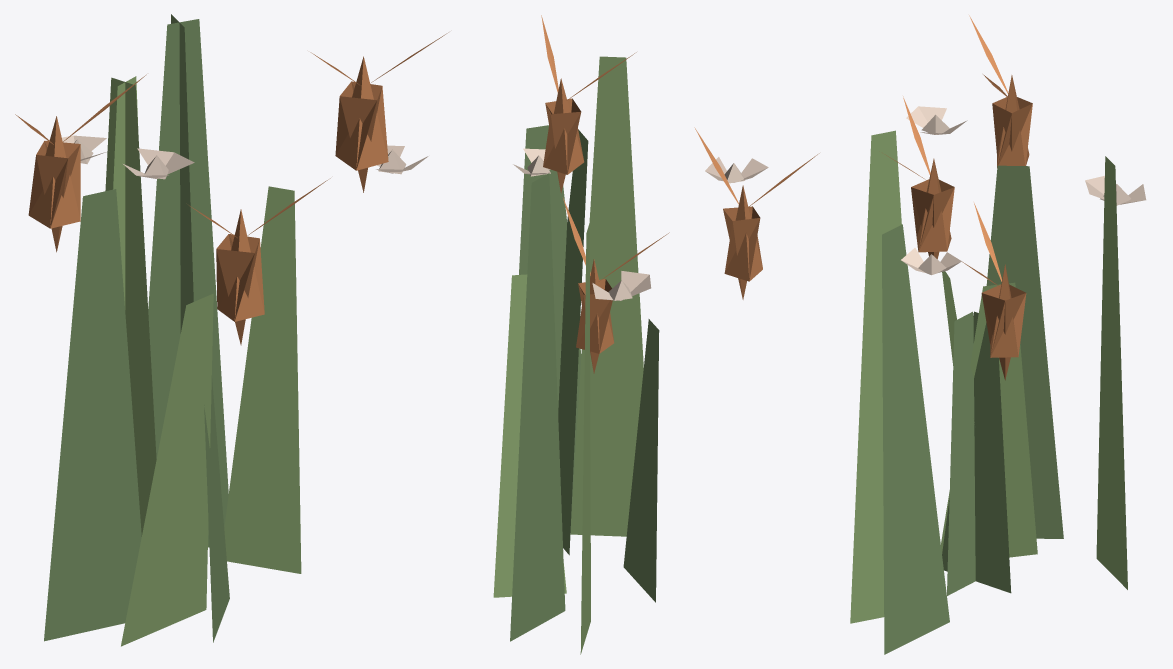
File: nong.dao__spring.glb
3 views of the same model, side by side, from view 1: azimuth 30°, elevation 25°; view 2: azimuth 150°, elevation 25°; view 3: azimuth 270°, elevation 25° (orthographic). The views are drawn at different scales.
Visible parts, largest first — view 1: nong.dao__spring; view 2: nong.dao__spring; view 3: nong.dao__spring.
Boxes of the visible parts, left/top/right/bottom form: nong.dao__spring: left=15, top=14, right=448, bottom=646; nong.dao__spring: left=493, top=15, right=819, bottom=654; nong.dao__spring: left=850, top=15, right=1146, bottom=654.
Bounding box in the file's own units: 0.7368 × 1.07 × 0.5942.
